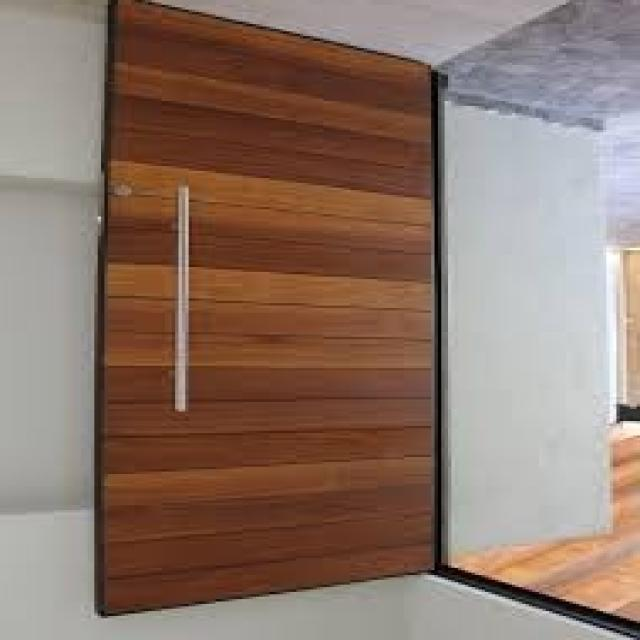door: (94, 1, 442, 620)
